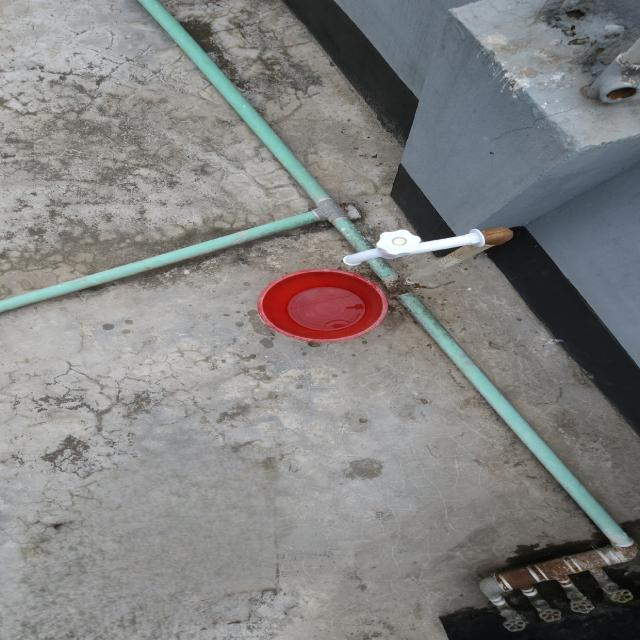Breeding Place: (246, 255, 408, 366)
